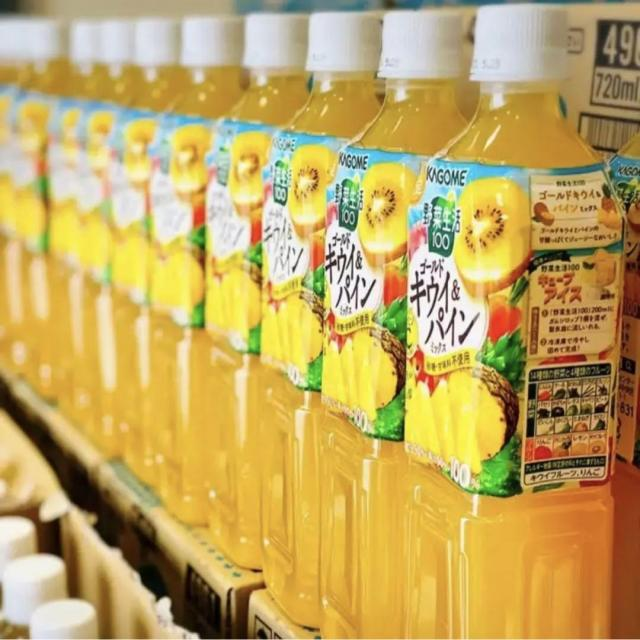juice: (405, 5, 625, 640), (322, 5, 478, 640), (263, 10, 380, 633), (205, 14, 313, 574), (143, 17, 249, 530), (108, 17, 184, 486)
